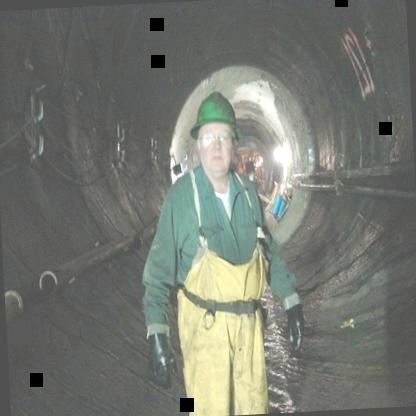helmet: (182, 75, 242, 196)
